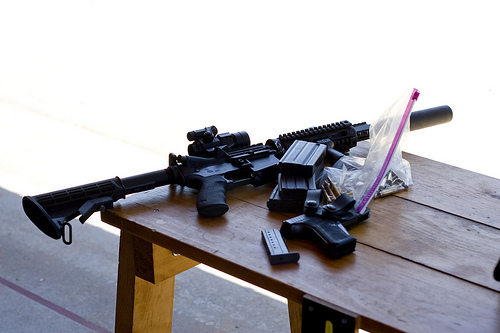rifle: (13, 105, 445, 249)
